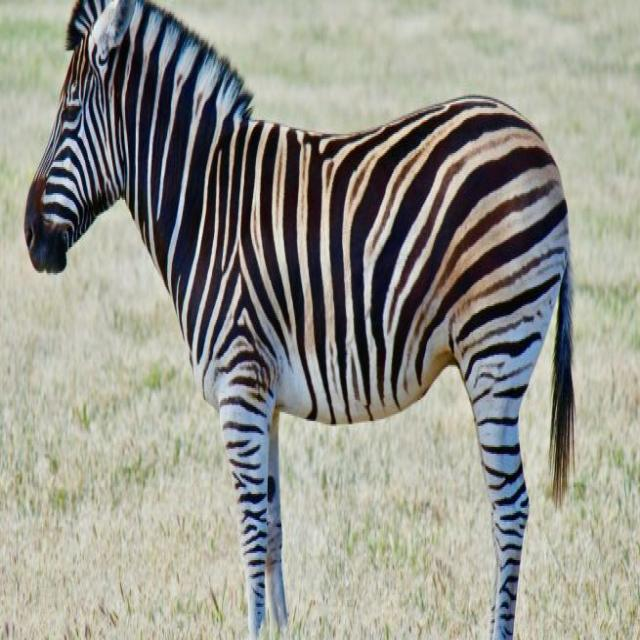Herbivorous: (22, 0, 575, 640)
